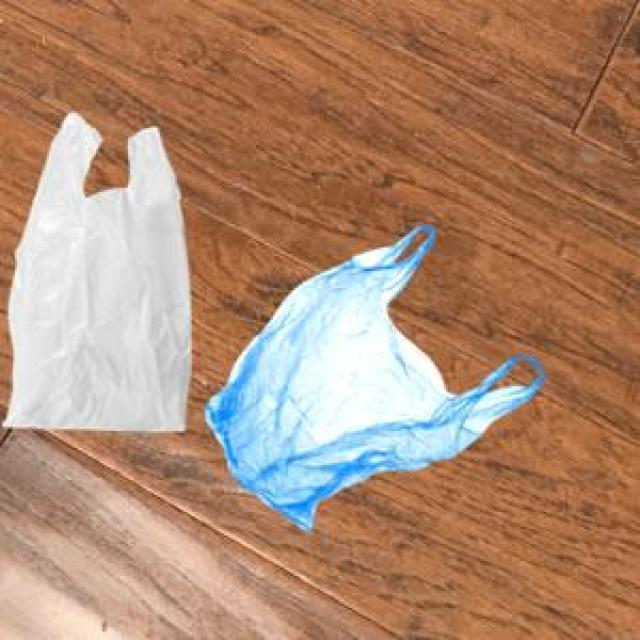waste: (208, 225, 545, 529), (5, 112, 190, 431)
